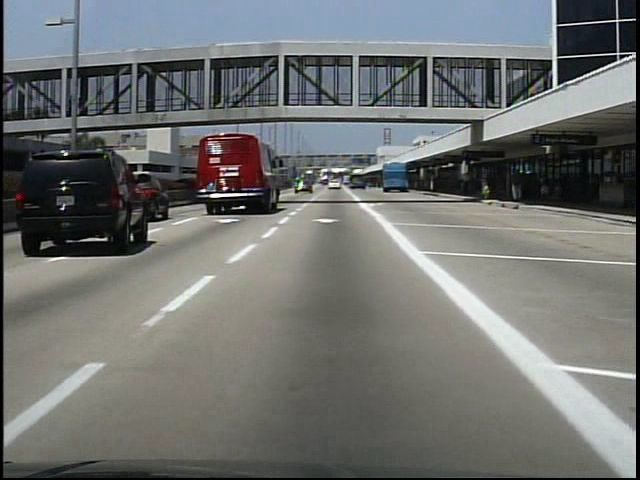person: (537, 170, 554, 204)
